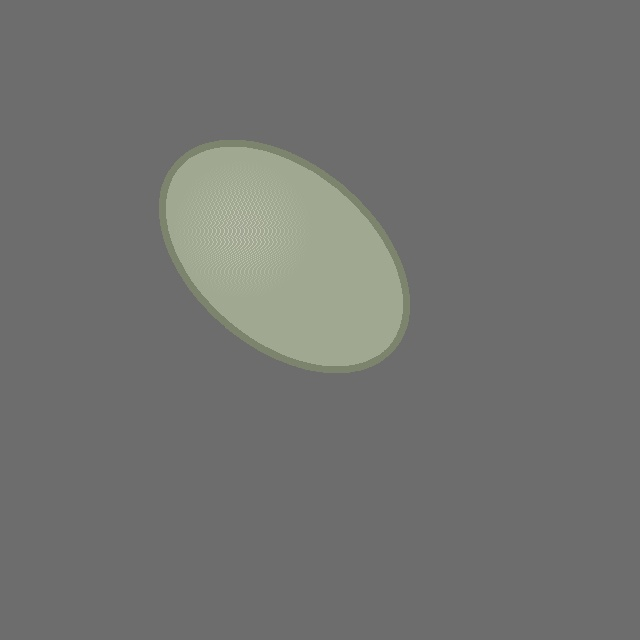lens: (162, 143, 406, 369)
